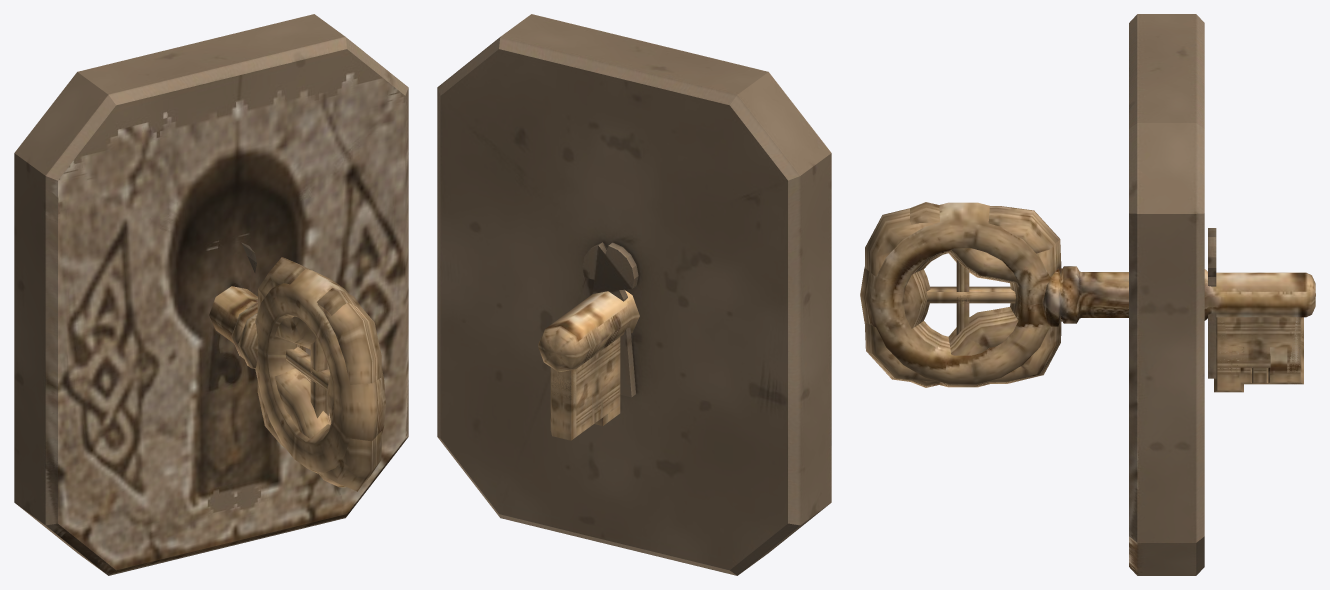
File: lf_artifact_bone_key_pre_v2.glb
3 views of the same model, side by side, from view 1: azimuth 30°, elevation 25°; view 2: azimuth 150°, elevation 25°; view 3: azimuth 270°, elevation 25° (orthographic). The views are drawn at different scales.
Visible parts, largest first — view 1: lf_artifact_bone_key_socket_LOD0, lf_artifact_bone_key_v1_LOD0, lf_artifact_bone_key_v3_LOD0, lf_artifact_bone_key_v2_LOD0; view 2: lf_artifact_bone_key_socket_LOD0, lf_artifact_bone_key_v1_LOD0, lf_artifact_bone_key_v3_LOD0, lf_artifact_bone_key_v2_LOD0; view 3: lf_artifact_bone_key_socket_LOD0, lf_artifact_bone_key_v1_LOD0, lf_artifact_bone_key_v3_LOD0, lf_artifact_bone_key_v2_LOD0.
Part boxes in pixels (x1,y1,x2,y2): lf_artifact_bone_key_socket_LOD0: (14, 14, 408, 575); lf_artifact_bone_key_v1_LOD0: (209, 269, 385, 473); lf_artifact_bone_key_v3_LOD0: (257, 257, 381, 491); lf_artifact_bone_key_v2_LOD0: (275, 288, 361, 487); lf_artifact_bone_key_socket_LOD0: (437, 14, 831, 575); lf_artifact_bone_key_v1_LOD0: (538, 290, 639, 440); lf_artifact_bone_key_v3_LOD0: (551, 337, 620, 425); lf_artifact_bone_key_v2_LOD0: (576, 362, 619, 436); lf_artifact_bone_key_socket_LOD0: (1129, 14, 1216, 575); lf_artifact_bone_key_v1_LOD0: (860, 202, 1315, 387); lf_artifact_bone_key_v3_LOD0: (864, 206, 1303, 392); lf_artifact_bone_key_v2_LOD0: (903, 202, 1300, 387).
Size of what is drawn, in the model's own units: 0.1875 by 0.2375 by 0.2166.
1 material, 1 textured.
